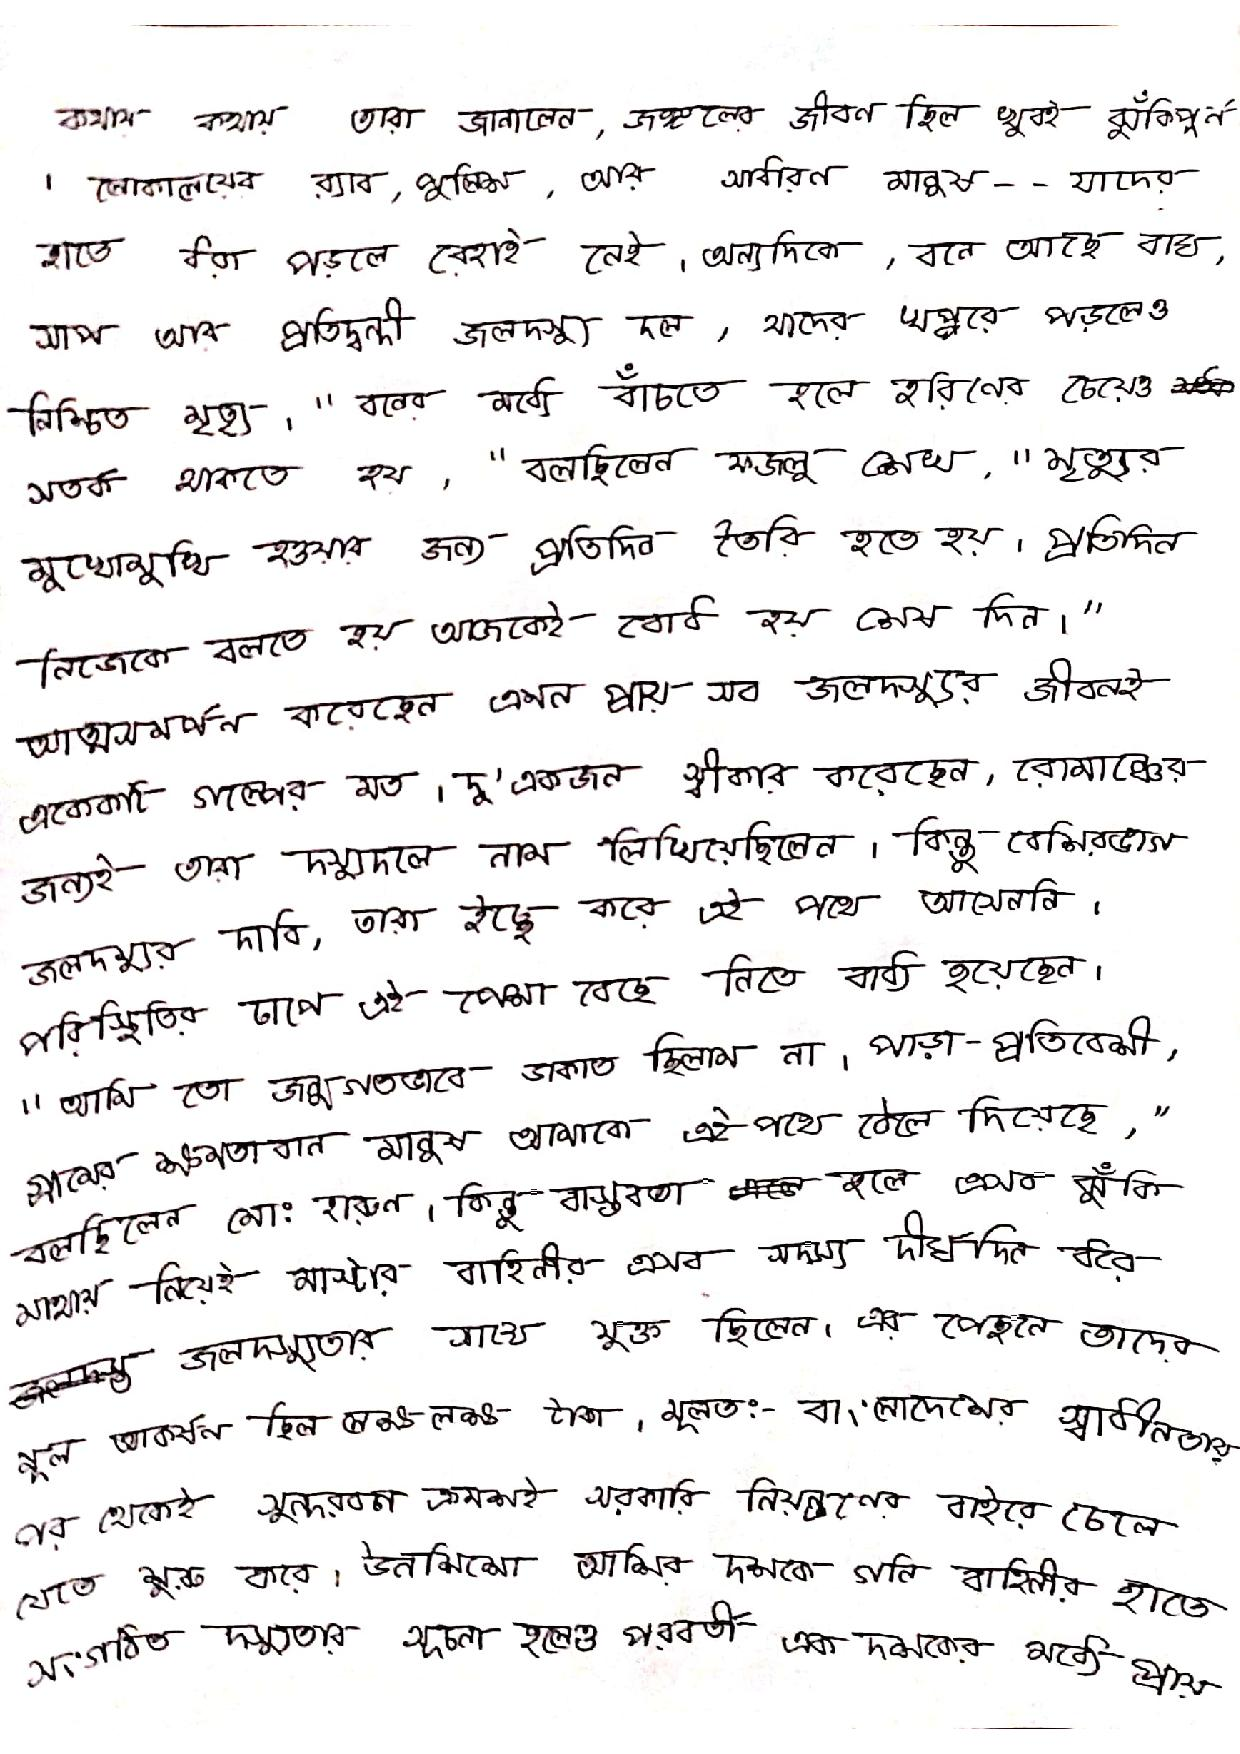line: (13, 1303, 1217, 1418), (21, 1091, 1176, 1208), (19, 1210, 1157, 1329), (15, 1011, 1180, 1123), (15, 1159, 1182, 1270), (27, 1598, 1225, 1704), (20, 879, 1107, 994), (17, 656, 1172, 761), (20, 949, 1099, 1060), (19, 1392, 1231, 1490), (15, 589, 1100, 698), (13, 815, 1194, 914), (16, 743, 1206, 840), (21, 1538, 1225, 1625), (11, 515, 1194, 601), (15, 1475, 1184, 1555), (5, 362, 1151, 440), (31, 293, 1176, 358), (21, 442, 1185, 506), (52, 90, 1235, 149), (38, 228, 1227, 278), (85, 154, 1202, 205)
